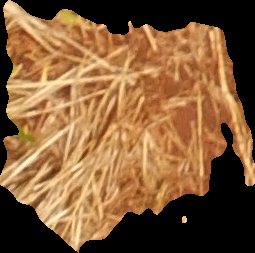soil: (1, 1, 254, 253)
